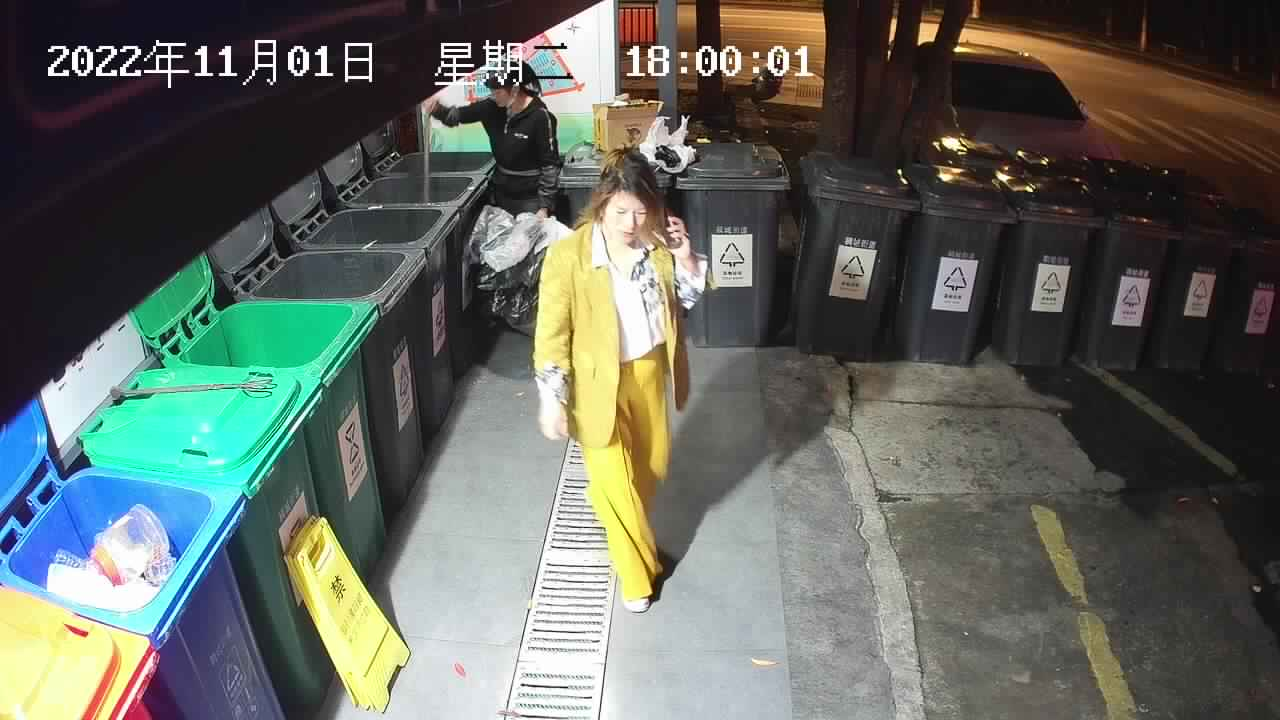person: (531, 142, 711, 615), (426, 58, 563, 218)
suliaozhipin: (460, 200, 577, 339)
